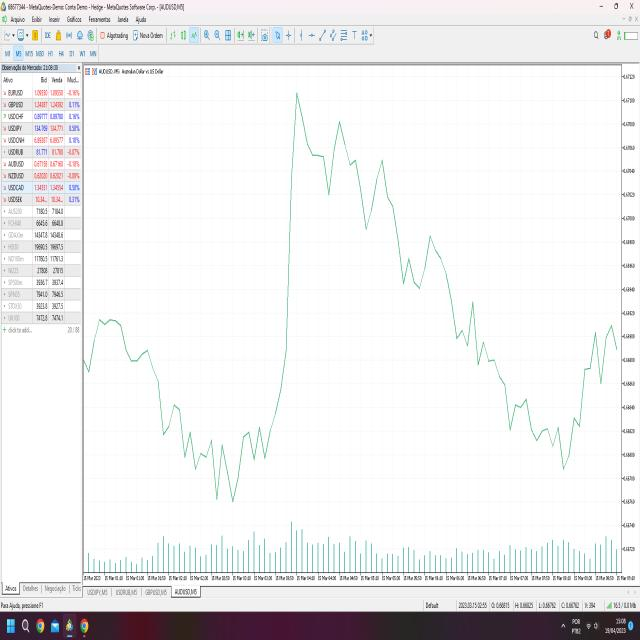fundo_duplo: (208, 407, 244, 522)
